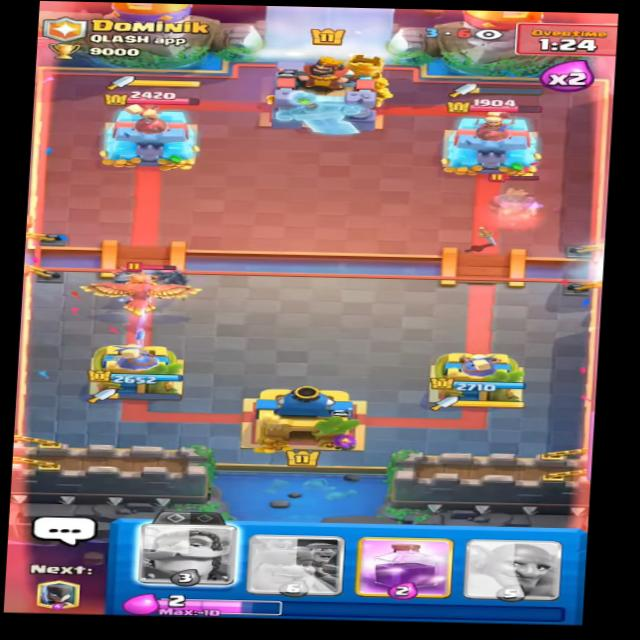pekka: (108, 254, 200, 305)
royal-ghost: (477, 170, 566, 225)
